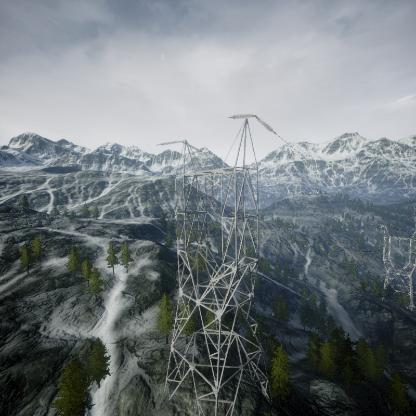tower: (158, 110, 280, 414), (376, 221, 416, 310)
